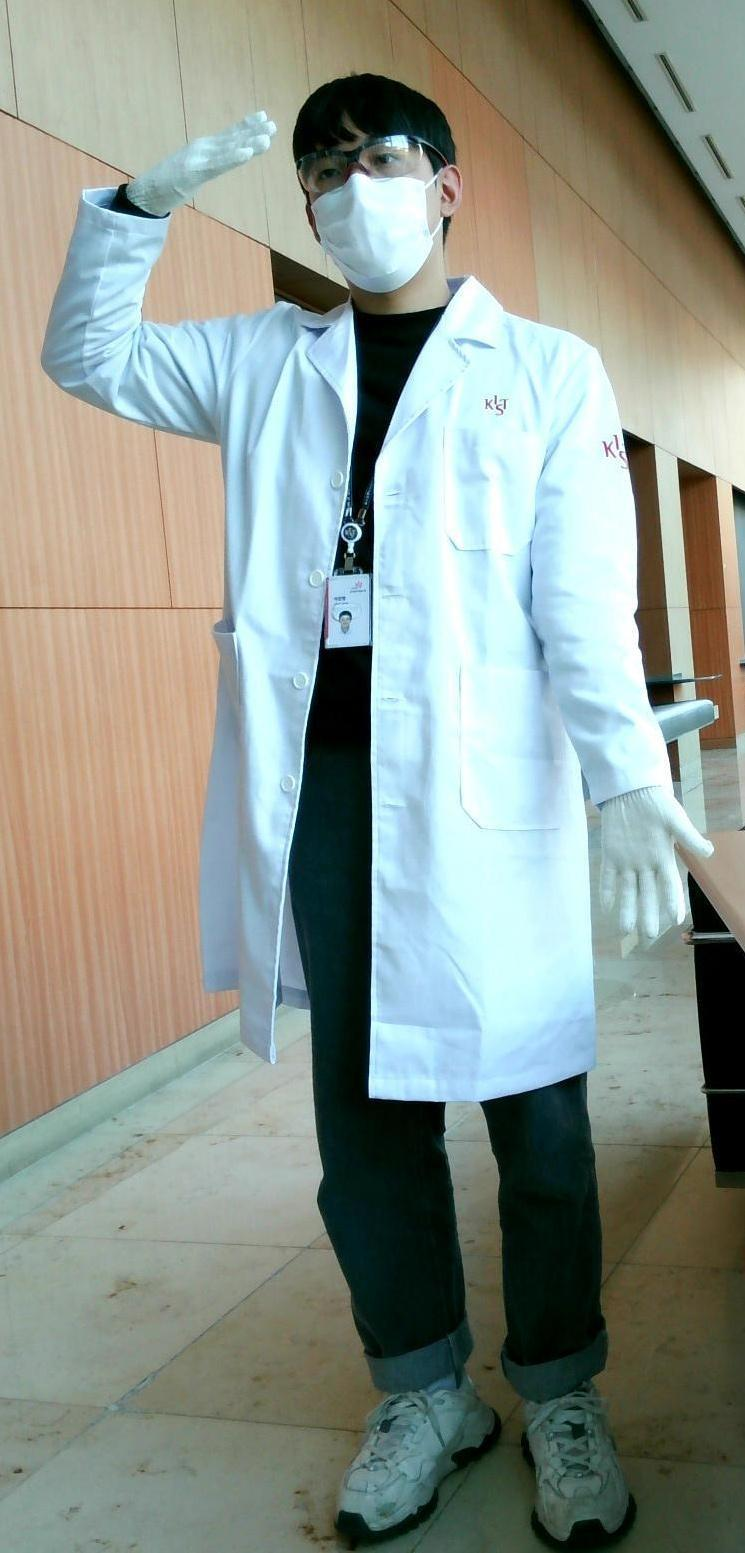lab_coat: (133, 294, 604, 1094)
